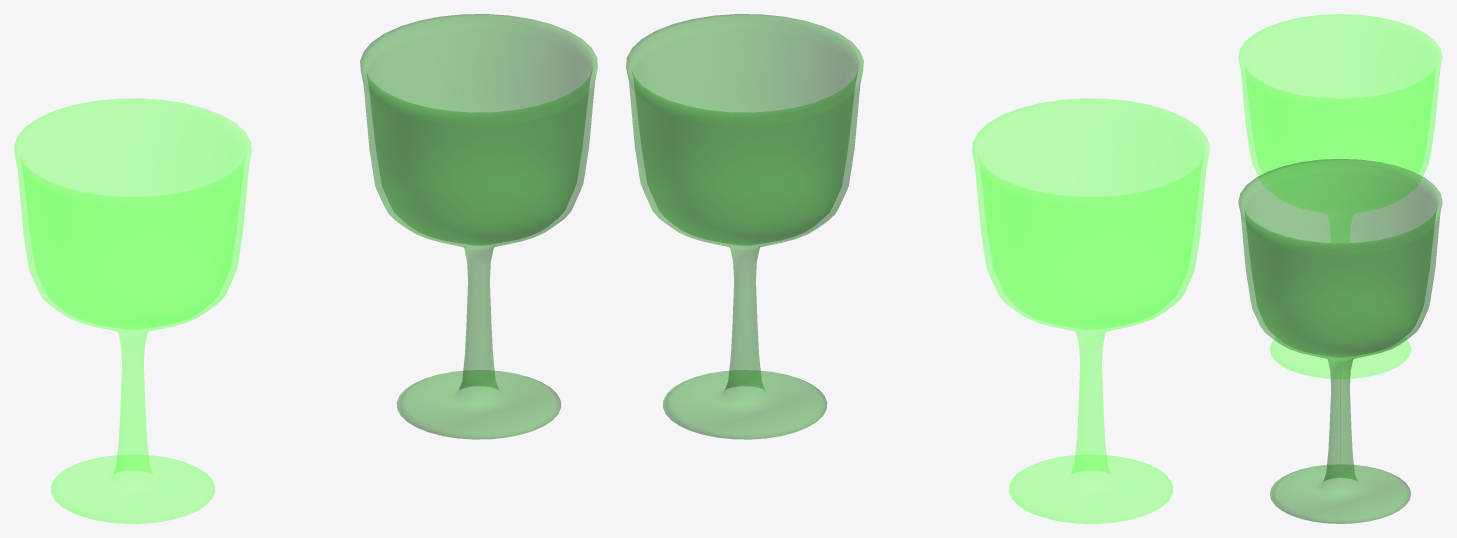
The model's file is WineGlass.glb.
3 views of the same model, side by side, from view 1: azimuth 30°, elevation 25°; view 2: azimuth 150°, elevation 25°; view 3: azimuth 270°, elevation 25° (orthographic). The views are drawn at different scales.
Visible parts, largest first — view 1: glowing, normal; view 2: glowing, normal; view 3: normal, glowing.
Boxes of the visible parts, x1=… form: glowing: x1=14, y1=98, x2=251, y2=523; normal: x1=360, y1=14, x2=597, y2=439; glowing: x1=972, y1=98, x2=1209, y2=523; normal: x1=626, y1=14, x2=863, y2=439; normal: x1=1238, y1=158, x2=1442, y2=523; glowing: x1=1238, y1=14, x2=1442, y2=378.
Size of the model in its own units: 7.74 by 4.56 by 2.89.
